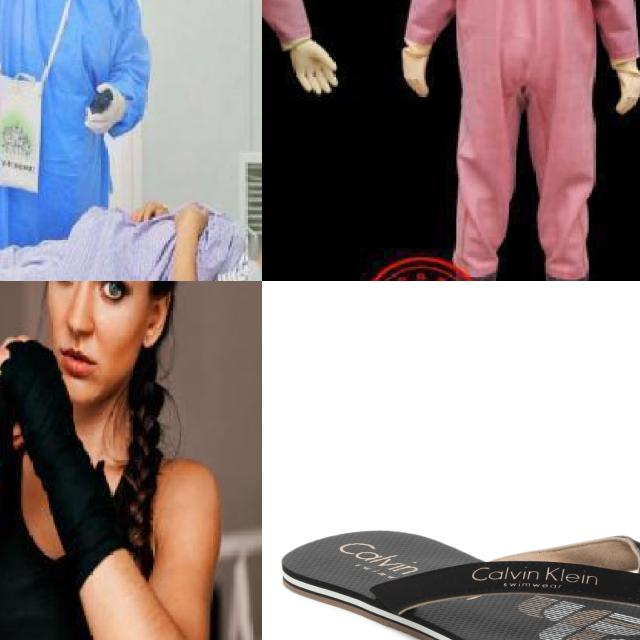Sandals: (277, 527, 640, 640)
face_nomask: (42, 281, 135, 405)
hand_glove: (0, 330, 70, 455), (290, 40, 343, 94), (401, 47, 435, 96), (610, 60, 640, 114), (173, 199, 212, 239), (132, 198, 168, 228)
hand_noglove: (82, 80, 121, 138)
person: (0, 281, 225, 640), (396, 0, 640, 281), (0, 0, 179, 257), (262, 0, 349, 281)
